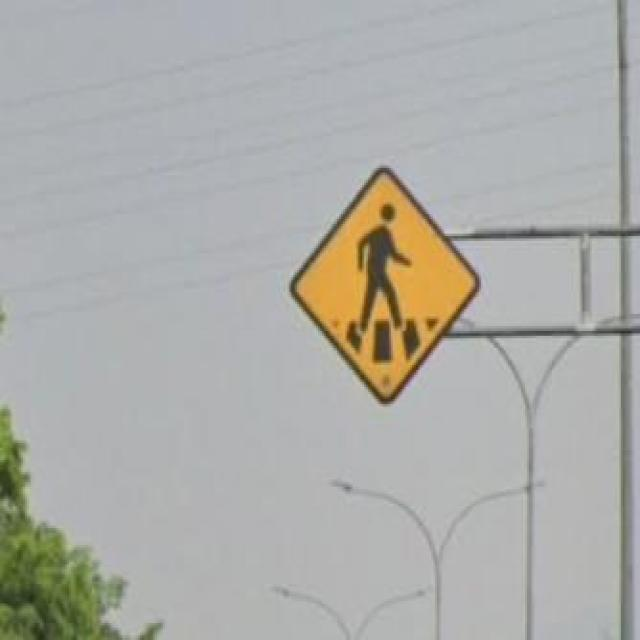traffic sign: (305, 175, 478, 382)
